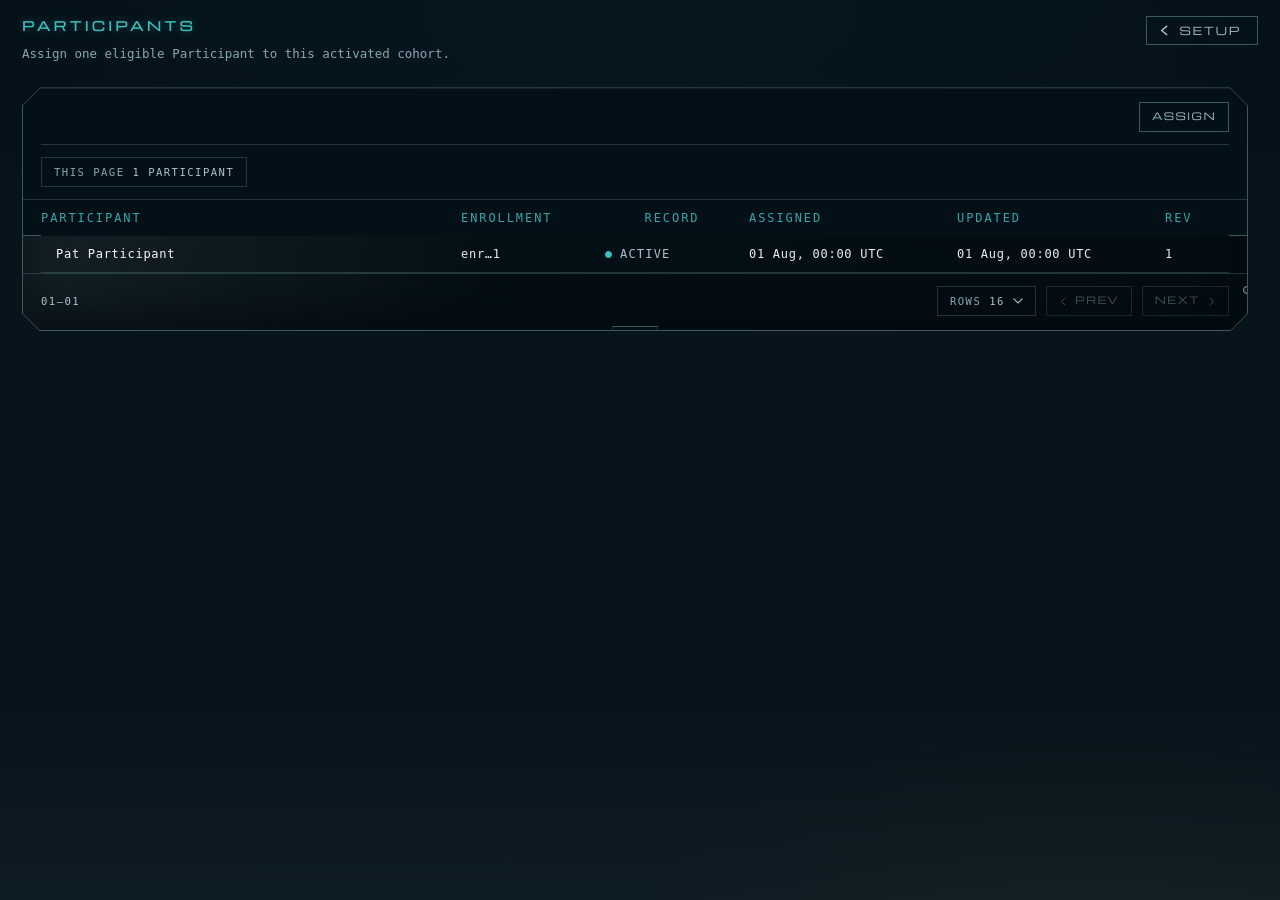
Test: ProductionEnrollmentPage › presents assigned Participants in a flush registry table
This screenshot has width=1280, height=900.
Check: the column heading "Enrollment" is shown, box x1=461 y1=200 x2=605 y2=236
Check: the column heading "Assigned" is shown, box x1=749 y1=200 x2=957 y2=236
Hover over the text "enr…1" at coordinates (481, 258), box x1=461 y1=247 x2=501 y2=268
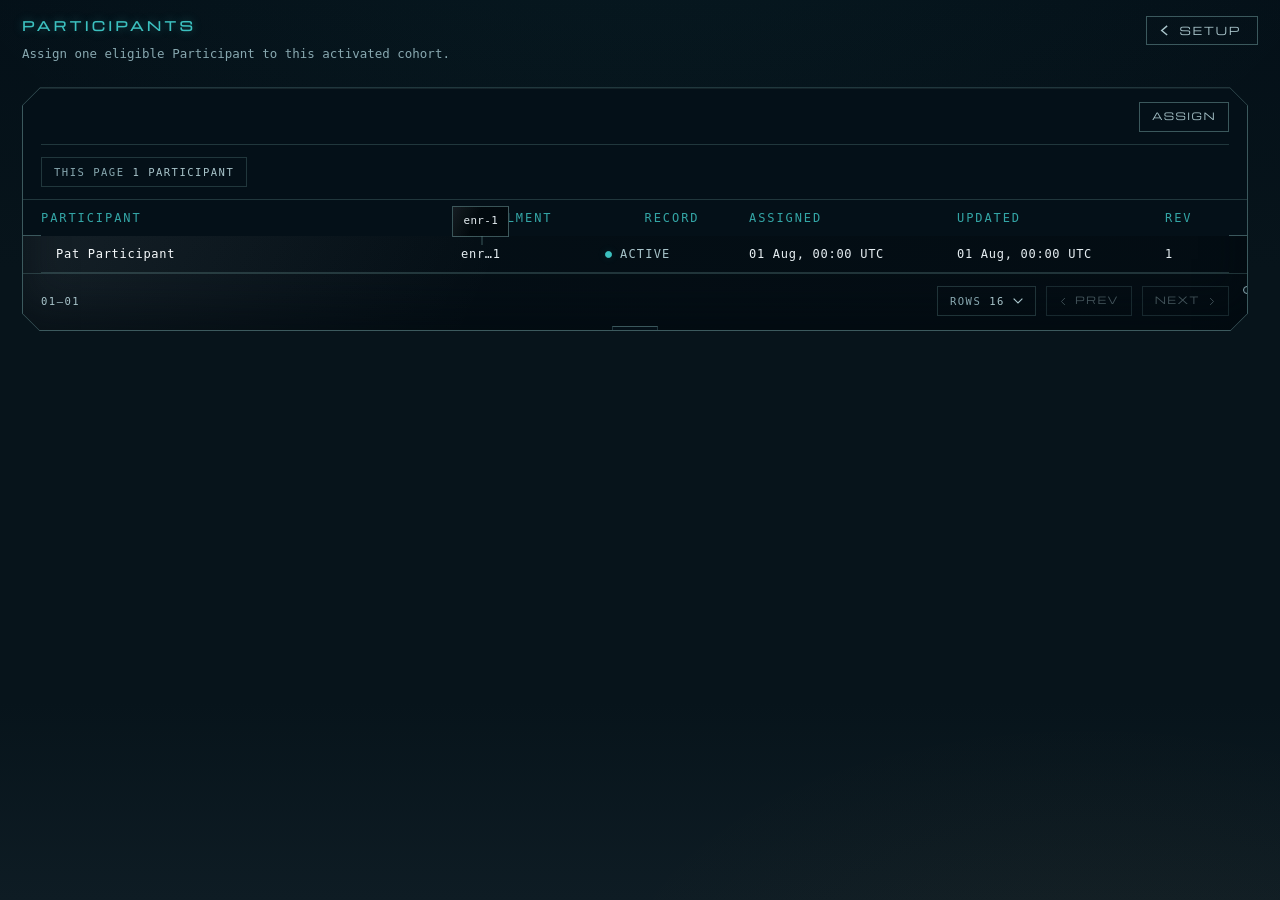
Check: the cell "1" is shown, box x1=1165 y1=236 x2=1229 y2=273
Check: the tooltip reads "enr-1", box x1=463 y1=214 x2=498 y2=227
